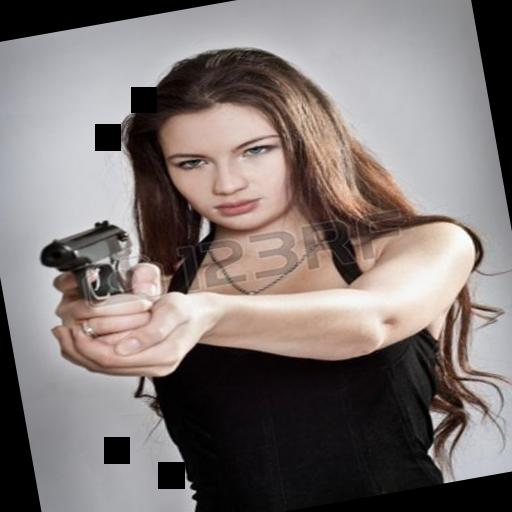Handgun: (34, 213, 140, 311)
